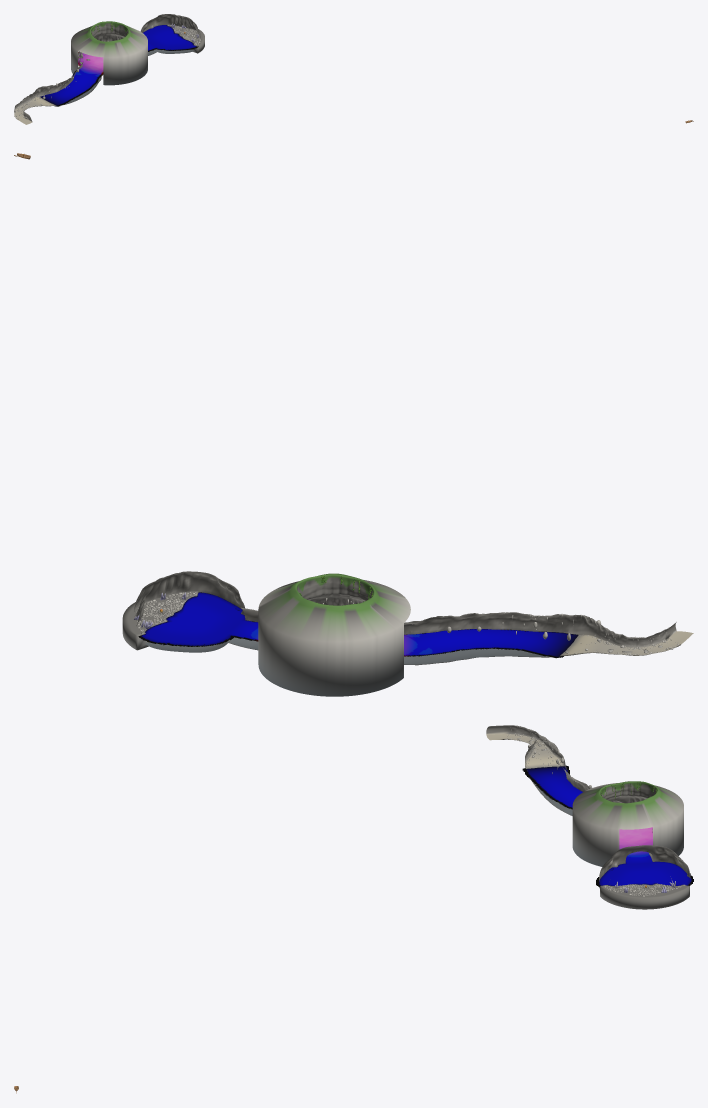
Rendered from cave.glb.
3 views of the same model, one above another, from view 1: azimuth 30°, elevation 25°; view 2: azimuth 150°, elevation 25°; view 3: azimuth 270°, elevation 25° (orthographic). The views are drawn at different scales.
Visible parts, largest first — view 1: cave_rock, cave_water; view 2: cave_rock, cave_water; view 3: cave_rock, cave_water.
Part boxes in pixels (box(x1,y1,x2,y2)): cave_rock: box(14, 14, 204, 124); cave_water: box(40, 25, 198, 106); cave_rock: box(122, 571, 693, 696); cave_water: box(138, 592, 578, 658); cave_rock: box(486, 725, 690, 909); cave_water: box(522, 765, 693, 886).
Bounding box in the file's own units: 197 × 14.49 × 158.
